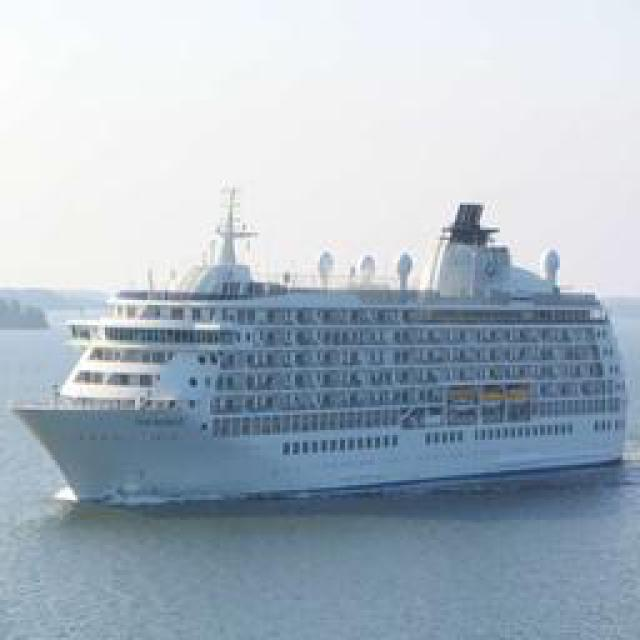Ship: (20, 194, 625, 504)
